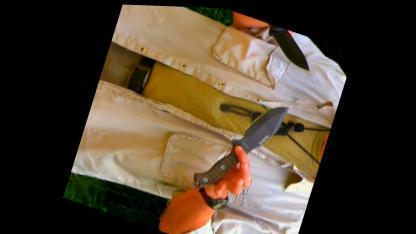knife: (189, 78, 294, 208), (231, 11, 322, 74)
